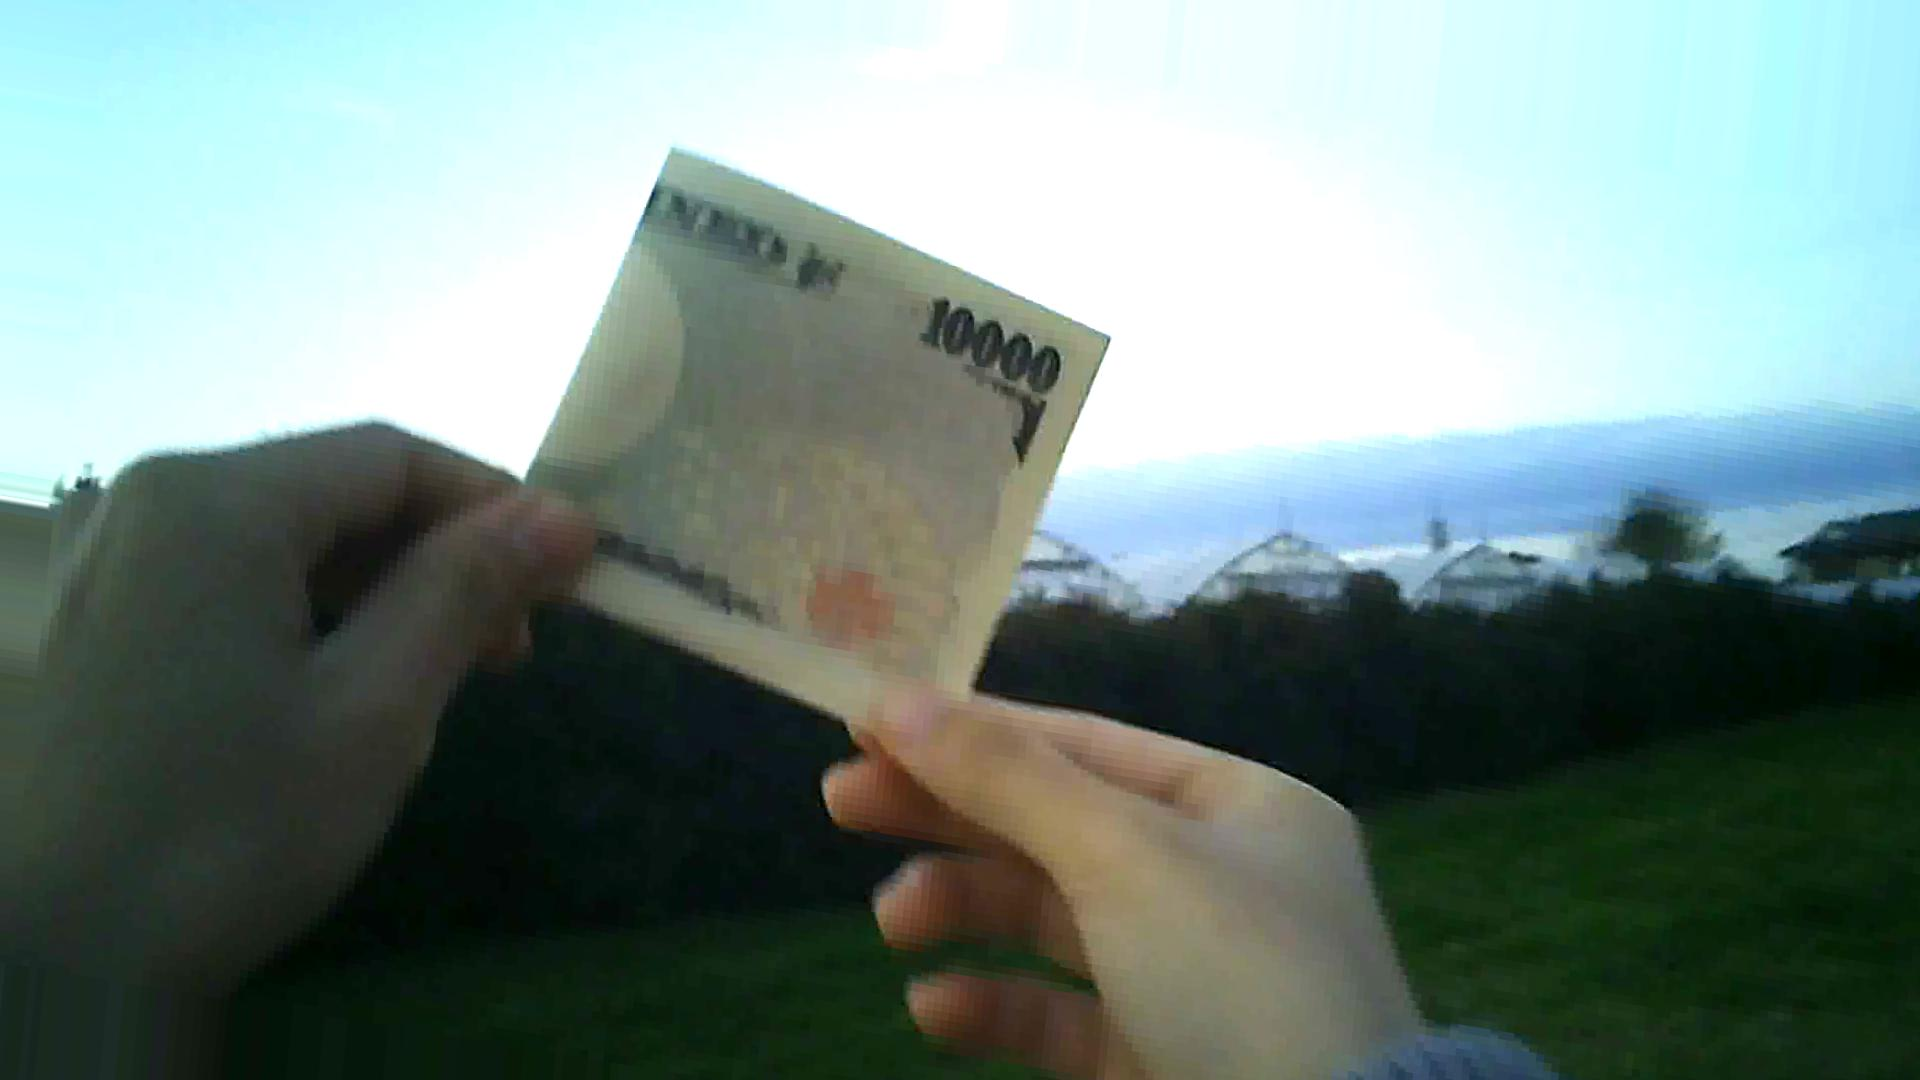10,000 Yen: (496, 138, 1106, 793)
